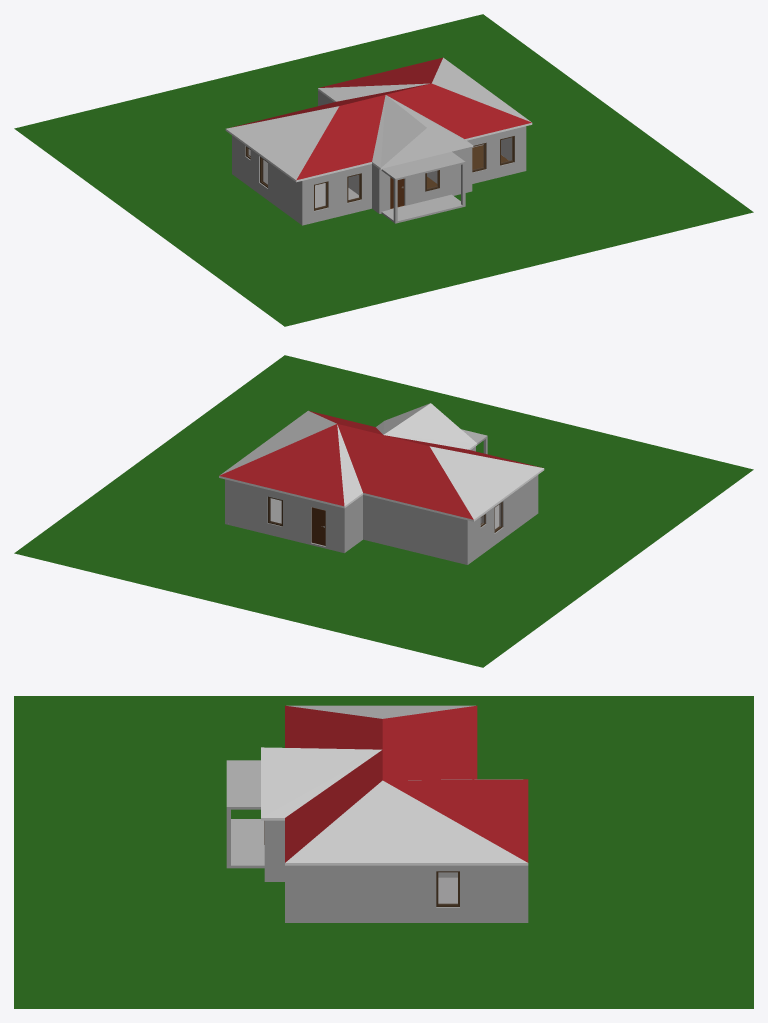
The model's file is house.obj.
The picture shows the model from 3 angles, top to bottom: view 1: azimuth 30°, elevation 25°; view 2: azimuth 150°, elevation 25°; view 3: azimuth 270°, elevation 25°; orthographic projection. The views are drawn at different scales.
Visible parts, largest first — view 1: Grass_Plane, Roof_Ceiling.001, house_Ground_lfoor, base_Ceiling.002, Ceiling; view 2: Grass_Plane, Roof_Ceiling.001, house_Ground_lfoor, base_Ceiling.002, Ceiling, Back_door_Door; view 3: Grass_Plane, Roof_Ceiling.001, house_Ground_lfoor, base_Ceiling.002, Ceiling, Window.002_Wiindow.002.
Part boxes in pixels (x1,y1,x2,y2): Grass_Plane: [14, 14, 753, 326]; Roof_Ceiling.001: [225, 57, 532, 182]; house_Ground_lfoor: [232, 92, 526, 223]; base_Ceiling.002: [232, 169, 526, 225]; Ceiling: [301, 90, 526, 221]; Grass_Plane: [14, 355, 753, 667]; Roof_Ceiling.001: [219, 403, 544, 521]; house_Ground_lfoor: [225, 448, 538, 563]; base_Ceiling.002: [225, 498, 538, 564]; Ceiling: [225, 429, 487, 521]; Back_door_Door: [311, 507, 325, 545]; Grass_Plane: [14, 696, 753, 1008]; Roof_Ceiling.001: [261, 705, 528, 865]; house_Ground_lfoor: [264, 823, 528, 920]; base_Ceiling.002: [226, 819, 528, 922]; Ceiling: [226, 760, 284, 866]; Window.002_Wiindow.002: [436, 871, 459, 906].
Bounding box in the file's own units: 29.17 × 4.51 × 29.17.
